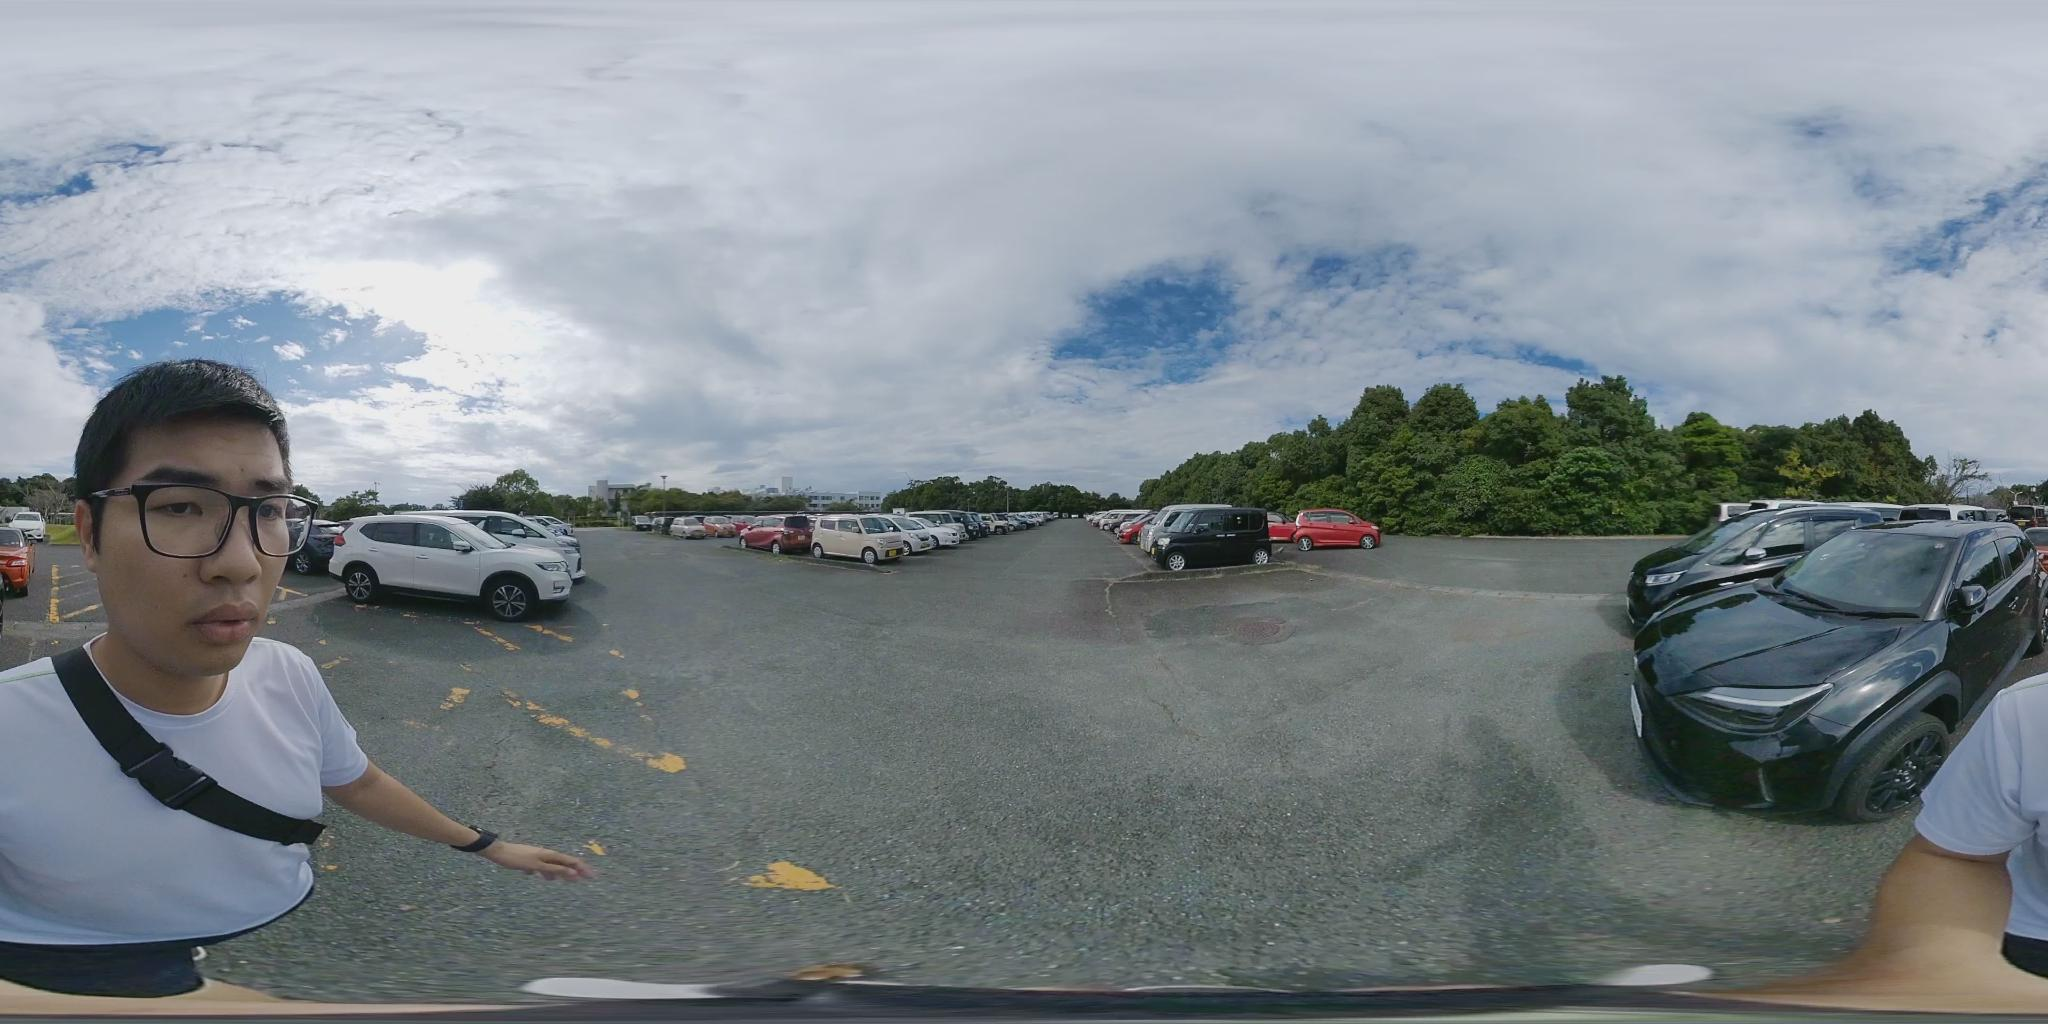car: (1612, 511, 2044, 818), (1620, 503, 1994, 631), (330, 509, 589, 618), (1135, 507, 1277, 569), (801, 515, 957, 564), (1283, 508, 1384, 550), (291, 517, 349, 569), (1893, 503, 2024, 525), (895, 515, 974, 551), (743, 516, 816, 552), (482, 512, 575, 539), (929, 511, 987, 541), (4, 507, 51, 543), (674, 517, 734, 541), (1108, 515, 1152, 543), (699, 519, 747, 542), (986, 512, 1044, 530), (969, 515, 1011, 539), (982, 515, 1028, 536), (664, 520, 707, 541), (1004, 512, 1049, 526), (637, 519, 670, 537), (1027, 512, 1062, 524)
